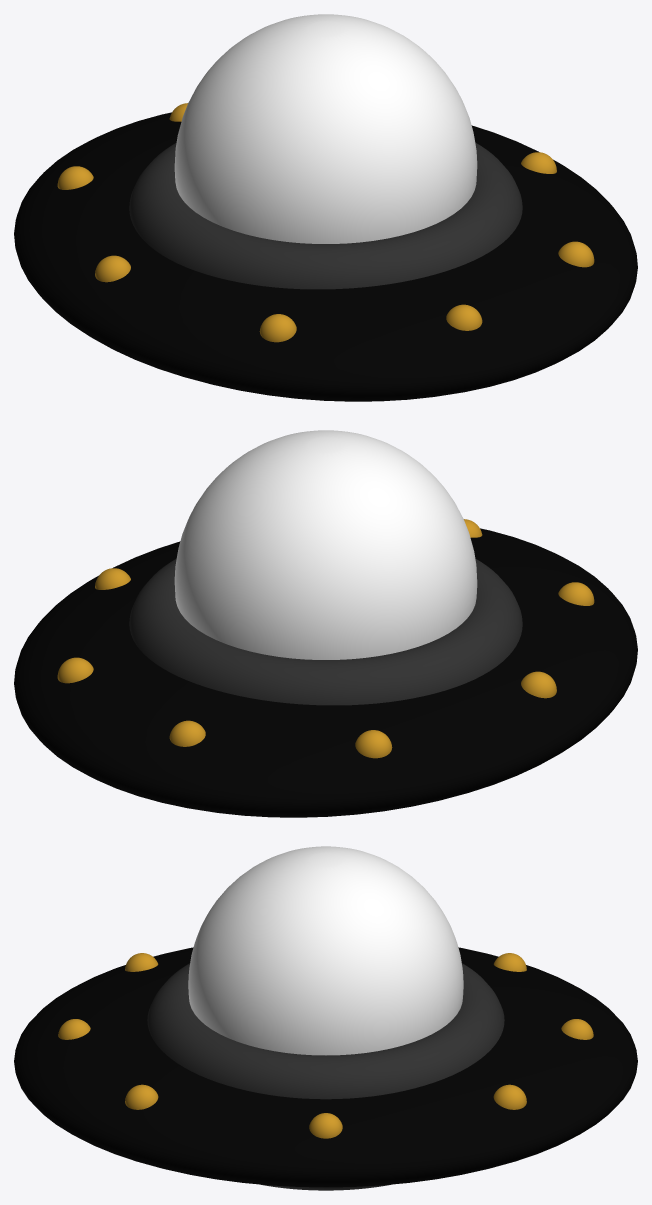
File: UFO.obj
The picture shows the model from 3 angles, top to bottom: view 1: azimuth 30°, elevation 25°; view 2: azimuth 150°, elevation 25°; view 3: azimuth 270°, elevation 25°; orthographic projection. The views are drawn at different scales.
Visible parts, largest first — view 1: Sphère.005; view 2: Sphère.005; view 3: Sphère.005.
Part boxes in pixels (x1,y1,x2,y2): Sphère.005: (14, 14, 637, 401); Sphère.005: (14, 430, 637, 817); Sphère.005: (14, 846, 637, 1190).
Bounding box in the file's own units: 9.84 × 5.31 × 11.21.
